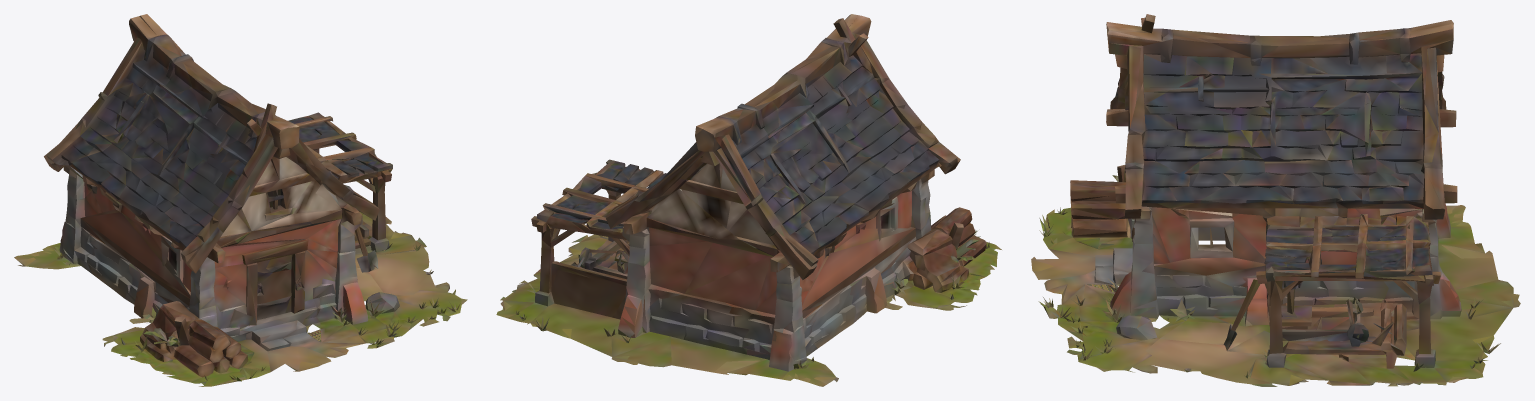
The model's file is lumbercamp.glb.
3 views of the same model, side by side, from view 1: azimuth 30°, elevation 25°; view 2: azimuth 150°, elevation 25°; view 3: azimuth 270°, elevation 25° (orthographic). The views are drawn at different scales.
Bounding box in the file's own units: 1.78 × 1.11 × 1.89.
1 material, 1 textured.
